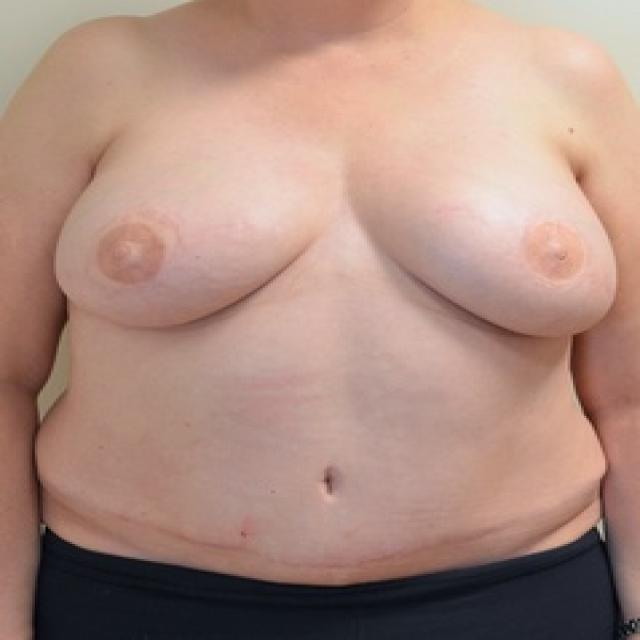Seno ileso: (47, 146, 340, 344), (346, 146, 624, 352)
